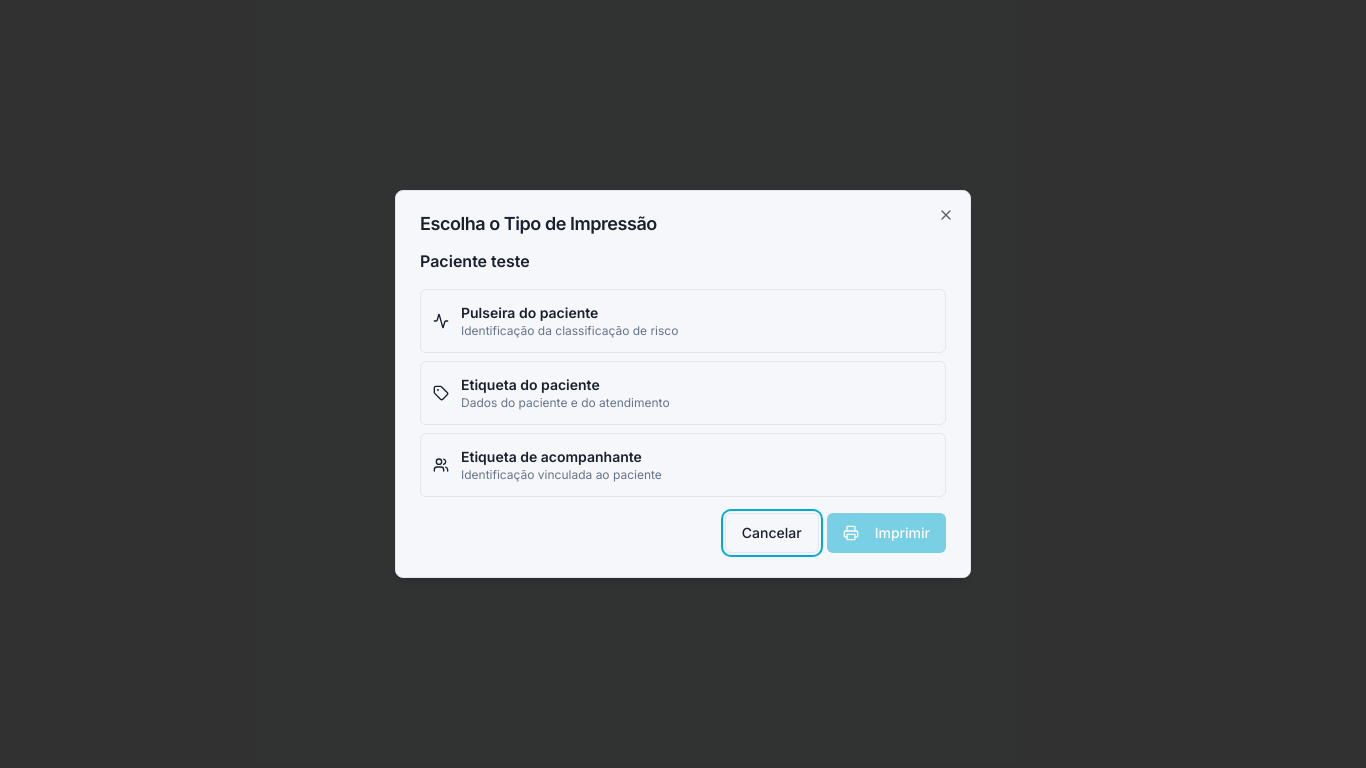
fluxo de identificação hospitalar › sem conexão não prepara trabalho nem envia; verificar conexão não reimprime
Click the radio button labelled "Etiqueta do paciente Dados do paciente e do atendimento".
click(530, 384)  # box x1=420 y1=361 x2=946 y2=425
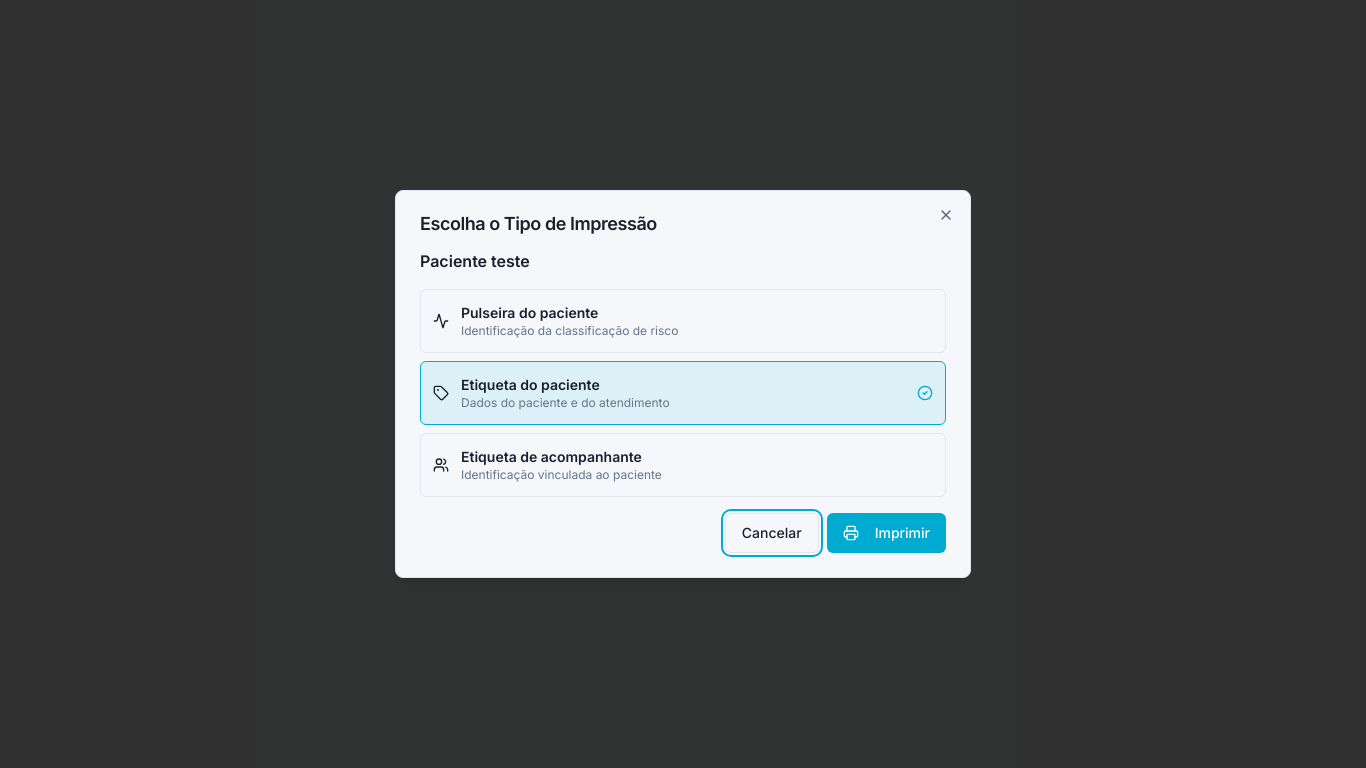
Click the button "Imprimir".
click(886, 533)  # box x1=827 y1=513 x2=946 y2=553
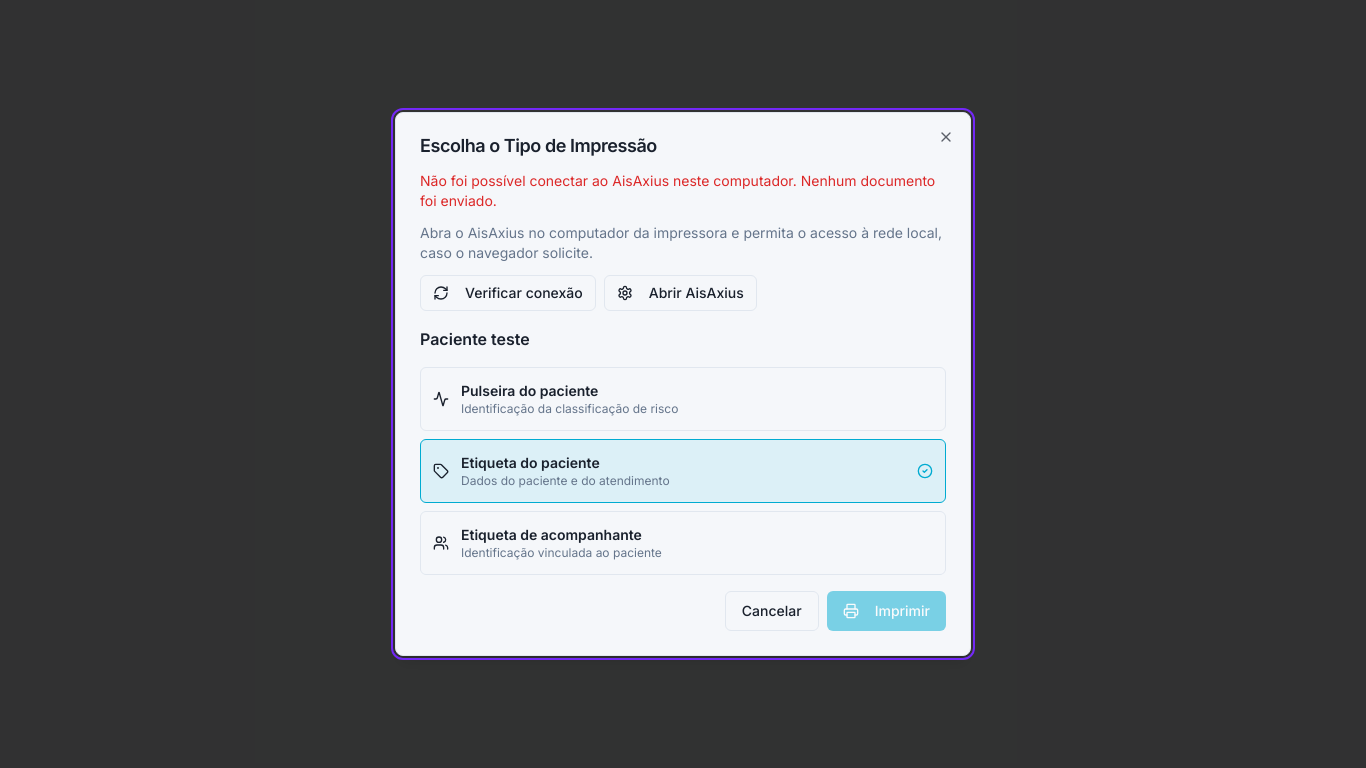
Check: the button "Imprimir" is disabled, box x1=827 y1=591 x2=946 y2=631
Click the button "Verificar conexão".
click(508, 293)  # box x1=420 y1=275 x2=596 y2=311
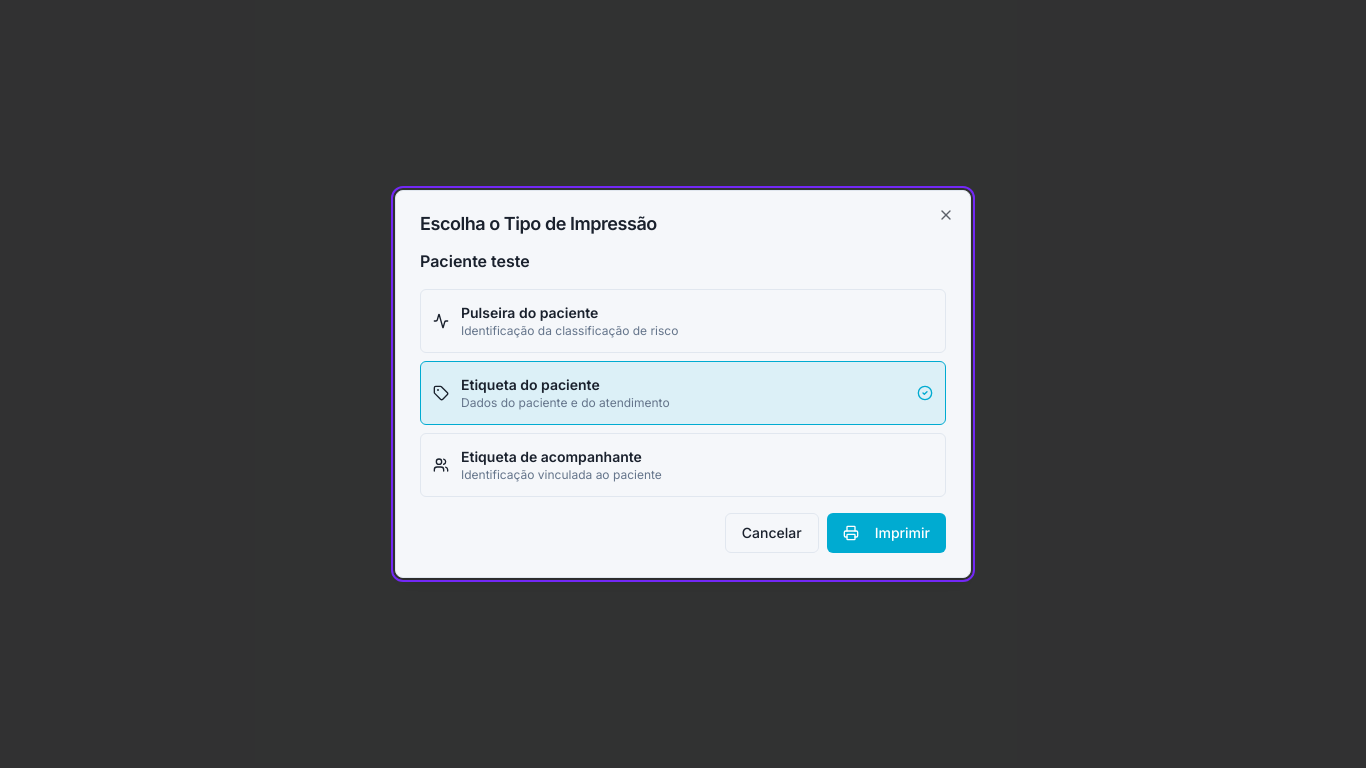
Check: the button "Imprimir" is enabled, box x1=827 y1=513 x2=946 y2=553
